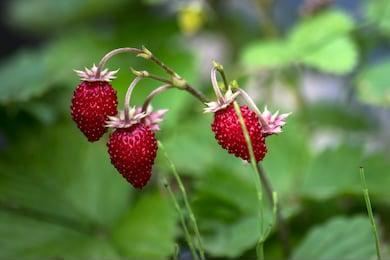Fresa: (205, 93, 275, 170), (103, 113, 167, 194), (68, 70, 122, 146)
